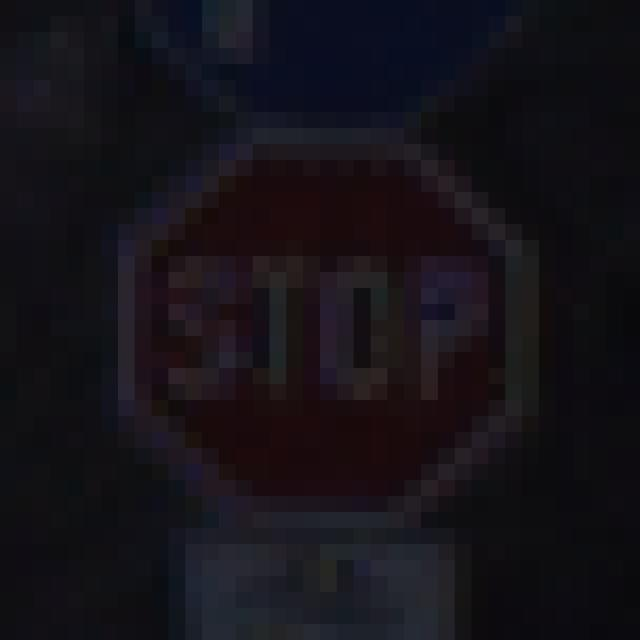STOP: (85, 97, 557, 561)
